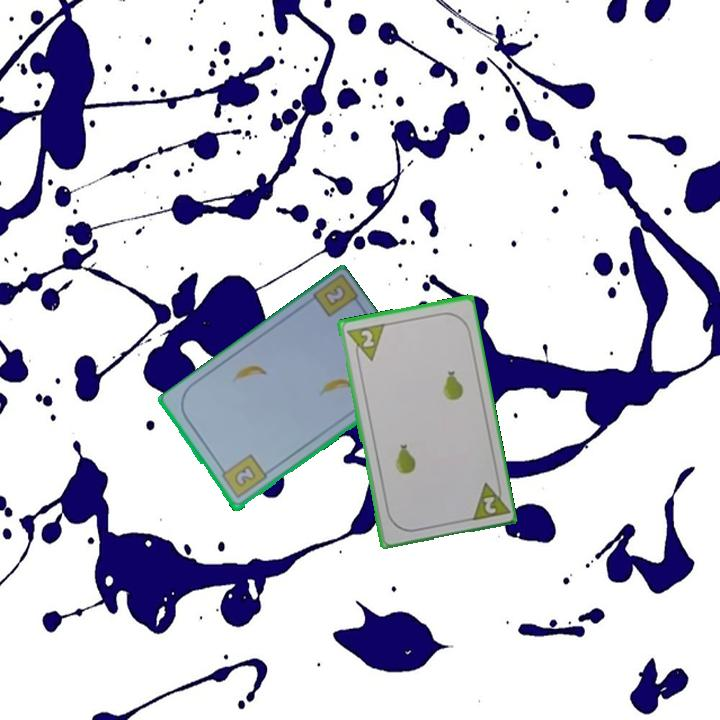2b: (216, 451, 270, 502), (322, 284, 347, 307)
2p: (342, 320, 387, 366), (466, 476, 510, 523)
